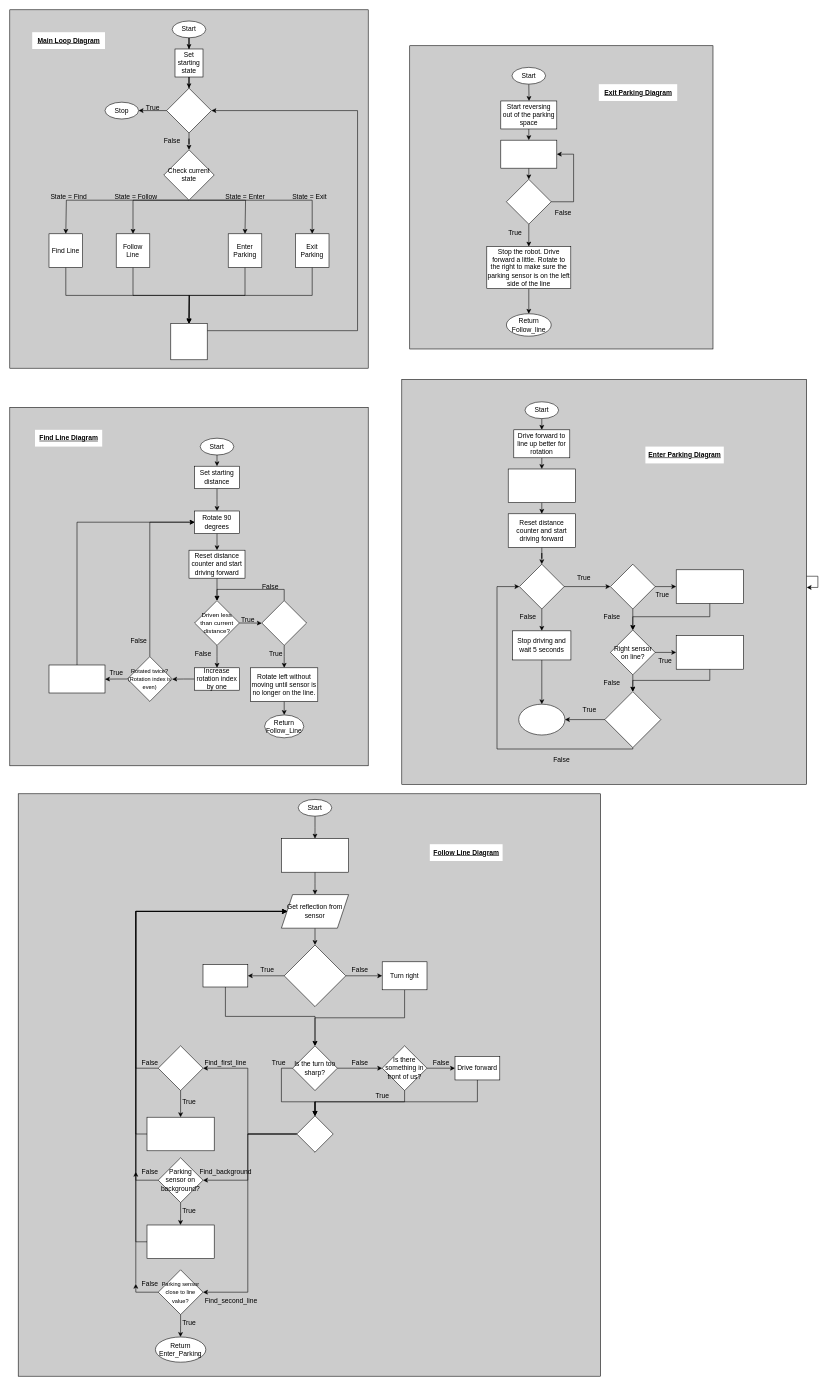
The diagram is 832 pixels wide and 1386 high, and some of its shapes have lost their labels. The shapes that lost their labels are listed below. From the top down, each one's box as (x1, y1, x2, y2) in pixels, then its label:
(166, 88, 211, 133): Is state equal to Exit_Program?
(500, 140, 557, 168): Get reflection of follow sensor
(506, 179, 551, 224): Is follow sensor close to line?
(170, 323, 207, 360): Set state to returned value
(508, 468, 575, 503): Stop and rotate robot 90 degrees towards parking space (left)
(519, 564, 564, 609): Have we driven less than parking distance?
(610, 564, 655, 609): Left sensor on line?
(676, 569, 743, 603): Stop and turn right, then resume driving forward
(261, 600, 307, 645): Detected line?
(676, 635, 743, 669): Stop and turn left, then resume driving forward
(48, 664, 105, 693): Increase current distance by 50
(518, 704, 565, 735): Return Exit_parking
(604, 691, 661, 748): Do we detect something in the parking space
(281, 838, 349, 872): Set Parking state to Find_first_line
(202, 964, 248, 987): Turn left
(284, 944, 346, 1007): Is reflection closer to the line than the background?
(158, 1045, 203, 1091): Parking sensor on line?
(146, 1117, 214, 1151): Set parking state to Find_background
(296, 1115, 333, 1152): Check parking state
(146, 1224, 214, 1259): Set parking state to Find_second_line
